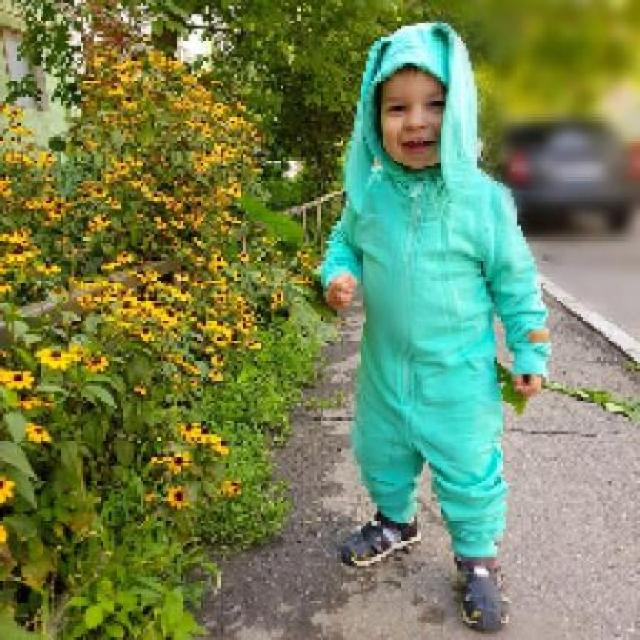child: (314, 22, 554, 638)
